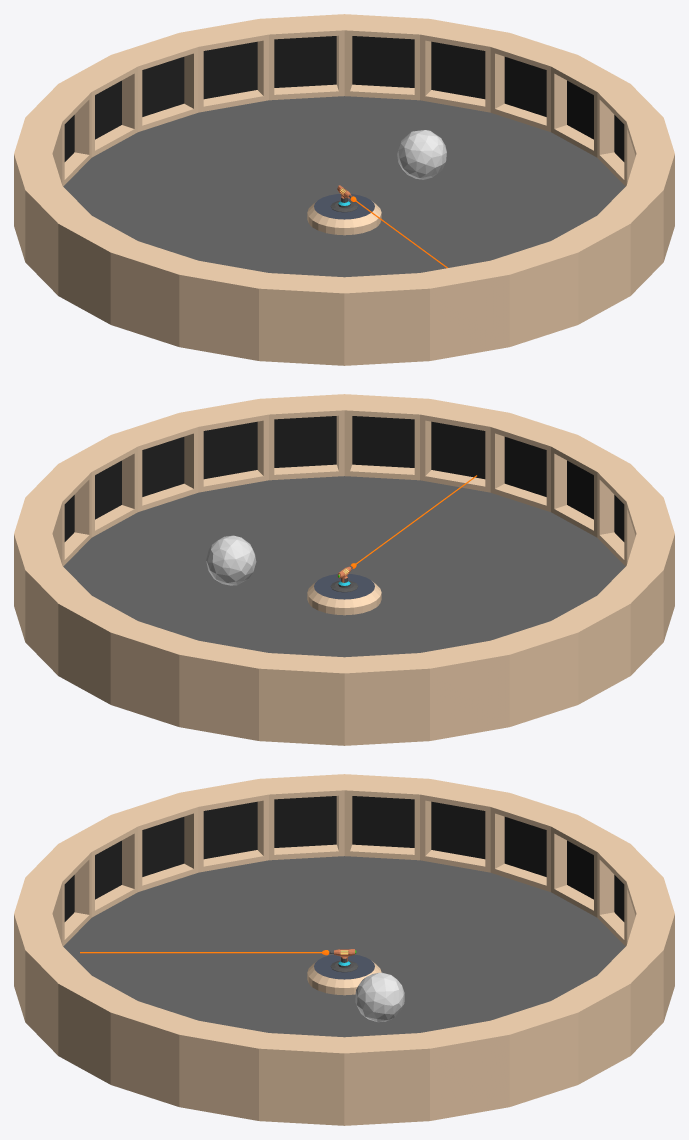
File: tps arena1.fbx
3 views of the same model, one above another, from view 1: azimuth 30°, elevation 25°; view 2: azimuth 150°, elevation 25°; view 3: azimuth 270°, elevation 25° (orthographic).
Parts seen in each view (by area): view 1: arena, arena.002, arena.015, arena.018, arena.011, arena.021, arena.014, arena.024, dış küre.001, arena.001, arena.010, arena.003; view 2: arena, arena.002, arena.017, arena.020, arena.013, arena.023, arena.009, arena.026, dış küre.001, arena.005, arena.006, arena.003; view 3: arena, arena.002, arena.019, arena.022, arena.016, arena.025, arena.004, arena.012, dış küre.001, arena.007, arena.008, arena.003.
Part boxes in pixels (x1,y1,x2,y2): arena: [14, 14, 674, 365]; arena.002: [63, 96, 625, 277]; arena.015: [274, 36, 336, 87]; arena.018: [352, 36, 414, 87]; arena.011: [203, 41, 257, 99]; arena.021: [431, 41, 485, 99]; arena.014: [142, 57, 184, 116]; arena.024: [504, 57, 546, 116]; dış küre.001: [397, 130, 446, 179]; arena.001: [567, 80, 593, 139]; arena.010: [95, 80, 121, 139]; arena.003: [314, 194, 374, 219]; arena: [14, 394, 674, 745]; arena.002: [63, 476, 625, 657]; arena.017: [274, 416, 336, 467]; arena.020: [352, 416, 414, 467]; arena.013: [203, 421, 257, 479]; arena.023: [431, 421, 485, 479]; arena.009: [142, 437, 184, 496]; arena.026: [504, 437, 546, 496]; dış küre.001: [206, 535, 256, 585]; arena.005: [567, 460, 593, 519]; arena.006: [95, 460, 121, 519]; arena.003: [314, 574, 374, 599]; arena: [14, 774, 674, 1125]; arena.002: [63, 856, 625, 1037]; arena.019: [274, 796, 336, 847]; arena.022: [352, 796, 414, 847]; arena.016: [203, 801, 257, 859]; arena.025: [431, 801, 485, 859]; arena.004: [504, 817, 546, 876]; arena.012: [142, 817, 184, 876]; dış küre.001: [355, 972, 404, 1022]; arena.007: [567, 840, 593, 899]; arena.008: [95, 840, 121, 899]; arena.003: [314, 954, 374, 979].
Size of the model in its own units: 200 by 24.18 by 200.
